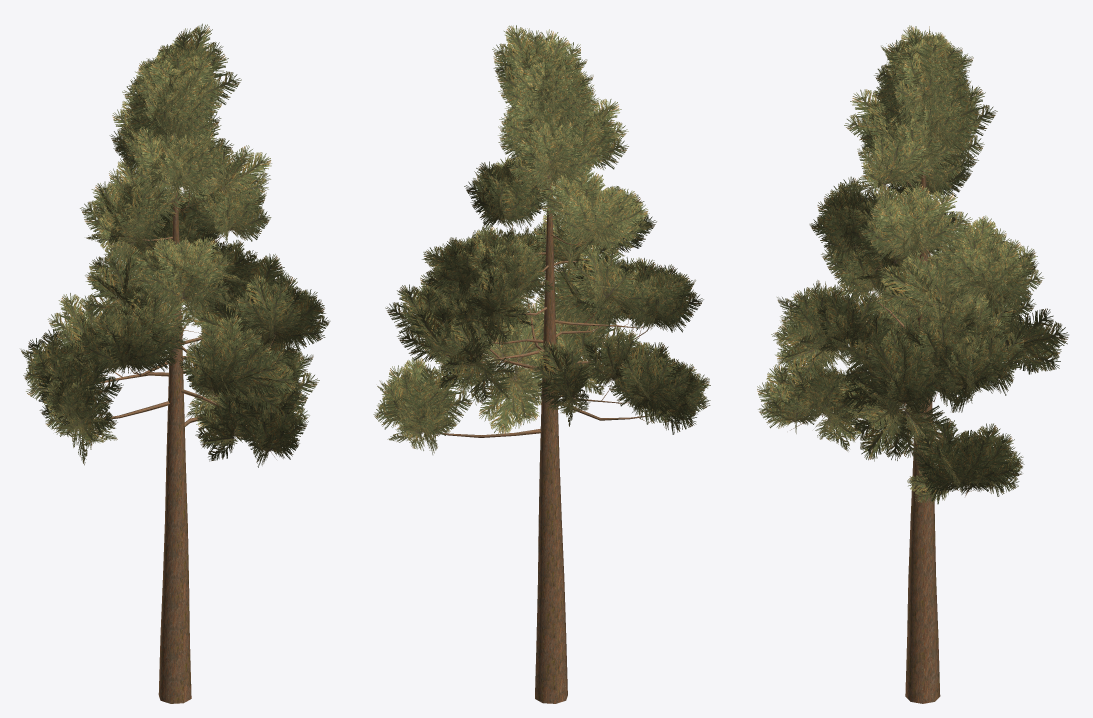
The model's file is ponderosa.glb.
The picture shows the model from 3 angles, left to right: view 1: azimuth 30°, elevation 25°; view 2: azimuth 150°, elevation 25°; view 3: azimuth 270°, elevation 25°; orthographic projection. The views are drawn at different scales.
Visible parts, largest first — view 1: eztree-ponderosa; view 2: eztree-ponderosa; view 3: eztree-ponderosa.
Boxes of the visible parts, box(x1,y1,x2,y2) form: eztree-ponderosa: box(20, 23, 330, 703); eztree-ponderosa: box(373, 25, 710, 703); eztree-ponderosa: box(757, 25, 1068, 703).
Size of the model in its own units: 7.5 by 16 by 6.88.
Materials: 2 (2 with a texture image).
